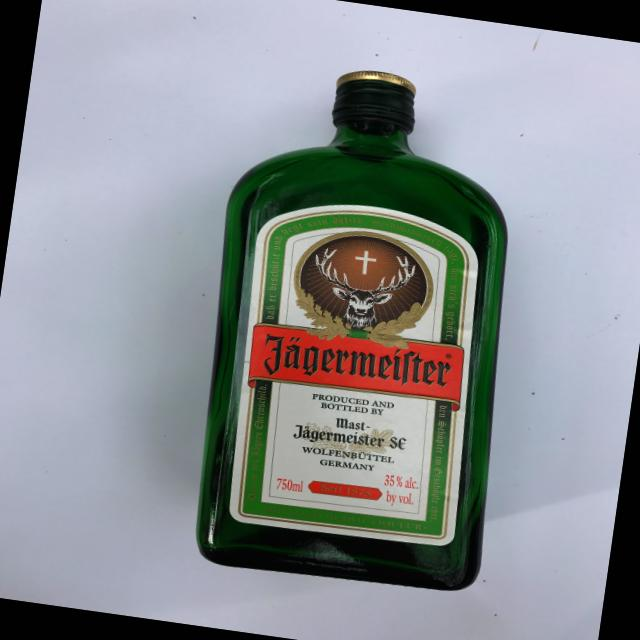Glass: (156, 45, 554, 606)
